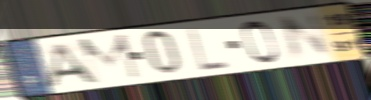0: (141, 28, 186, 78), (241, 19, 281, 65)
A: (46, 40, 99, 89)
L: (185, 25, 232, 72)
M: (76, 32, 143, 87)
N: (277, 10, 334, 64)
